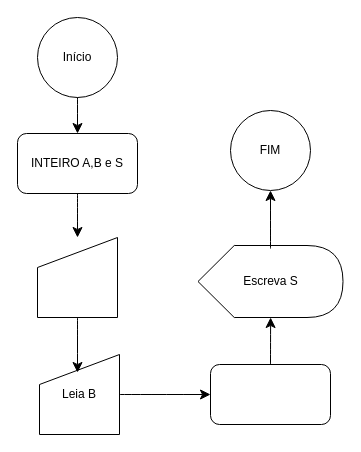
This 361x452 diagram has some shape labels left out. Each missing label, with the box of its shape:
Leia A: (36, 236, 118, 318)
S=A+B: (210, 364, 330, 424)
